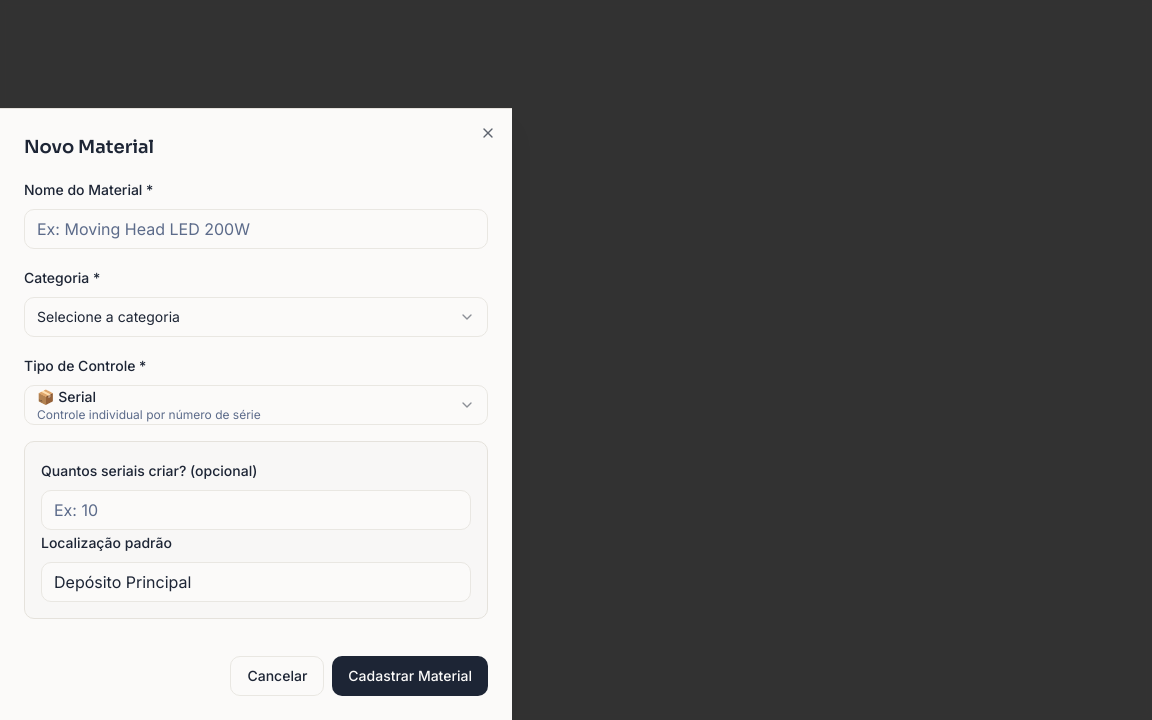
Test: NovoMaterialSheet › Serial Generation Preview › should show serial generation preview
Type "Moving Head" into the field labelled "Nome do Material *".
click(256, 229); type("Moving Head")  # box [24,209,488,249]
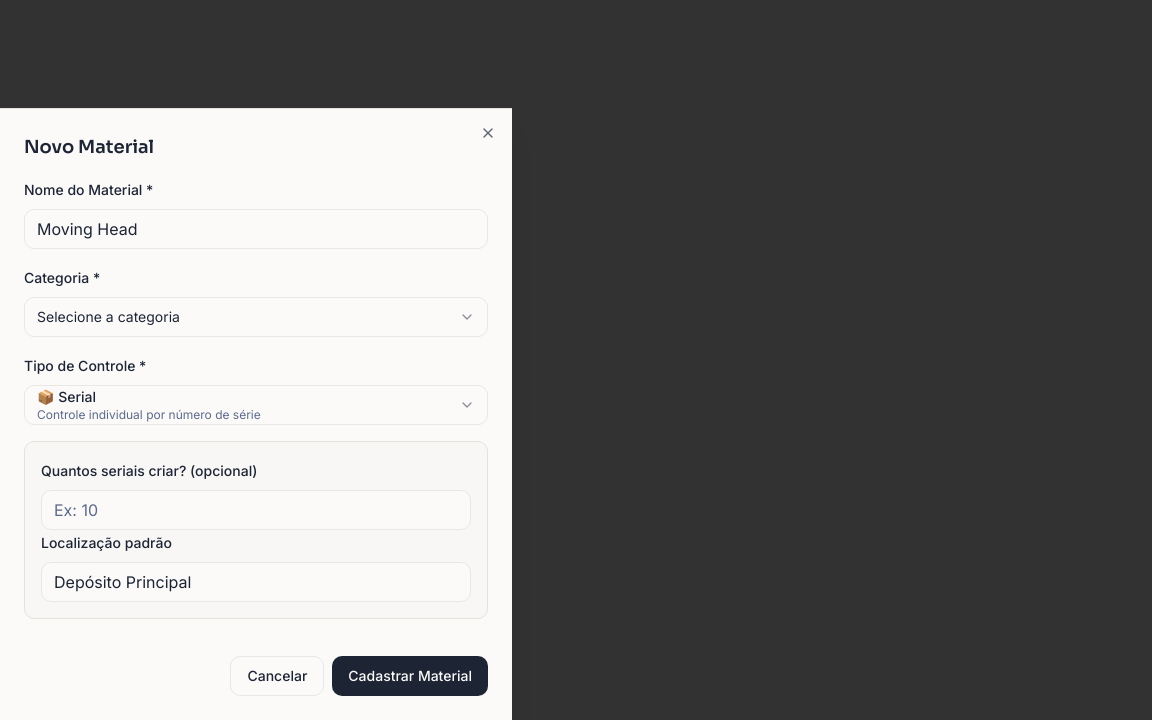
Type "10" into the number field labelled "Quantos seriais criar? (opcional)".
click(256, 510); type("10")  # box [41,490,471,530]
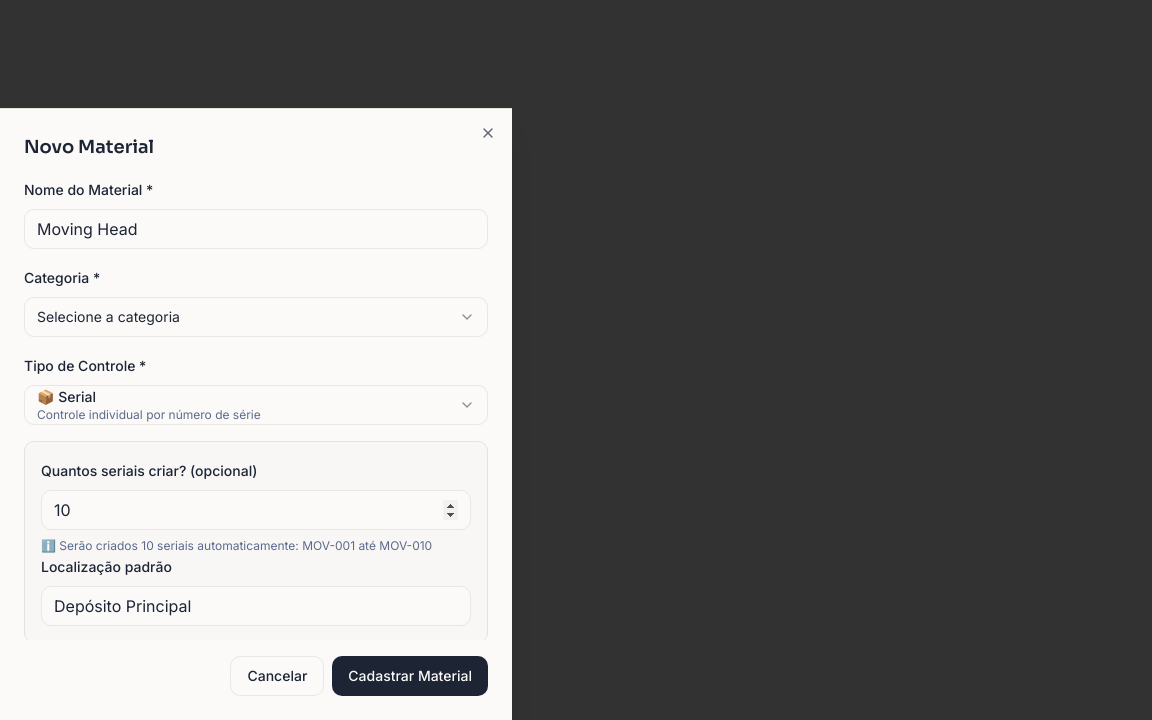
Now the text "MOV-001 até MOV-010" is shown, box [41,538,471,554]
